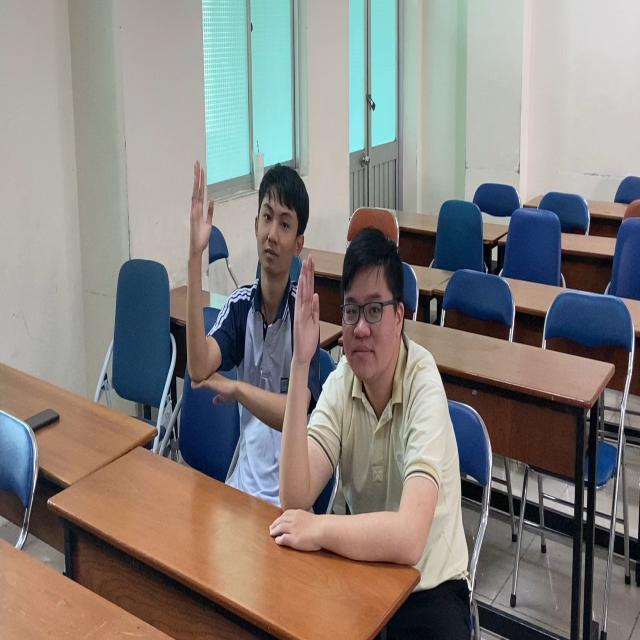raise_hand: (291, 220, 446, 568), (183, 150, 323, 522)
